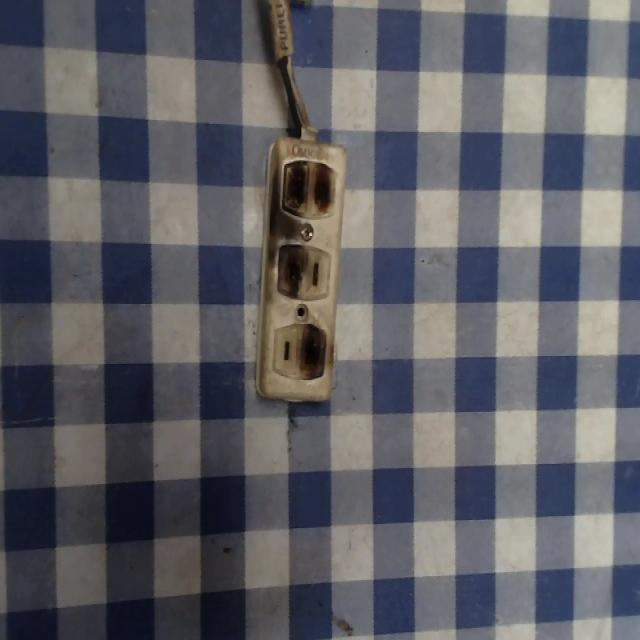-: (281, 154, 337, 218), (297, 320, 332, 381), (273, 240, 308, 295)
